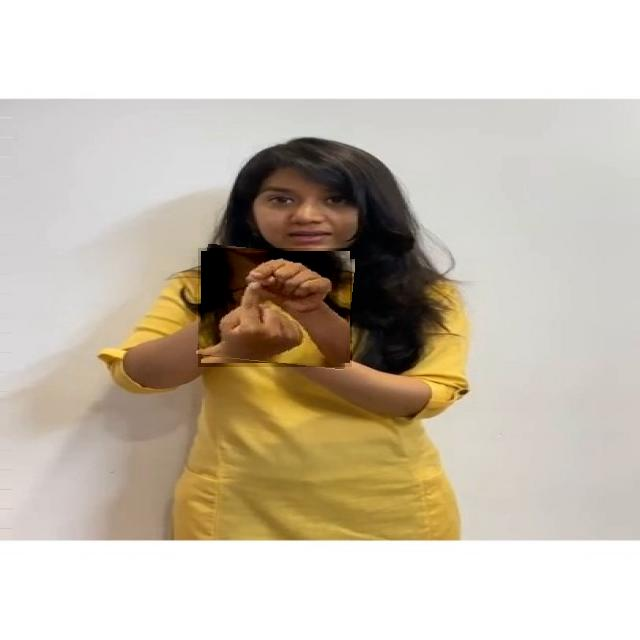I: (198, 248, 352, 367)
